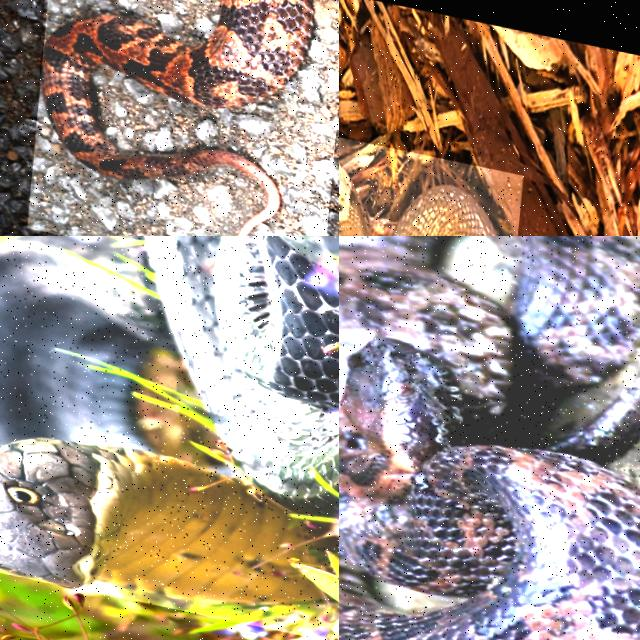Naja kaouthia: (393, 186, 496, 235)
Ophiophagus hannah: (0, 236, 316, 602)
Ovophis monticola: (339, 236, 639, 639), (41, 0, 312, 235)
snake: (339, 236, 639, 639), (0, 236, 316, 602), (41, 0, 312, 235), (393, 186, 496, 235)
